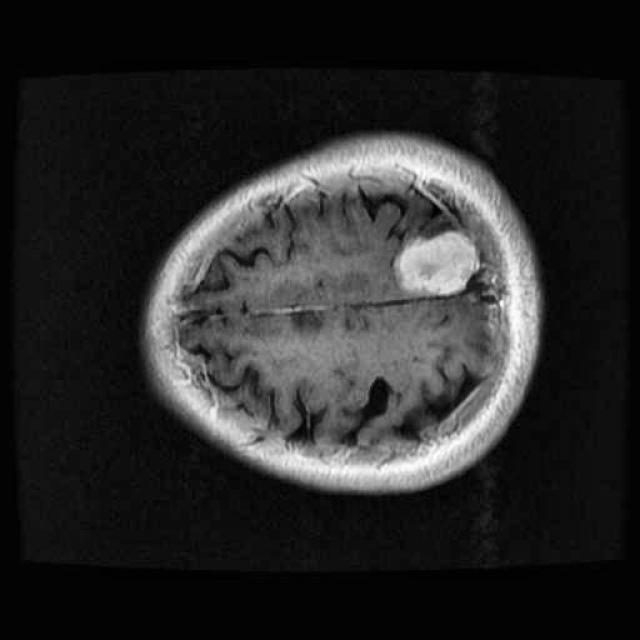Tumor: (389, 218, 489, 304)
